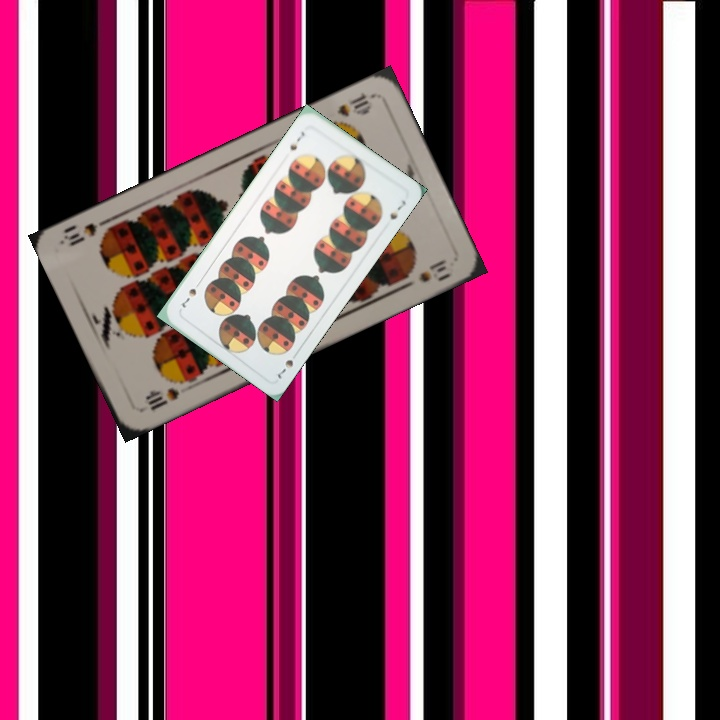S10: (141, 375, 189, 413), (333, 88, 374, 120)
S7: (273, 355, 296, 382), (286, 127, 307, 153)
